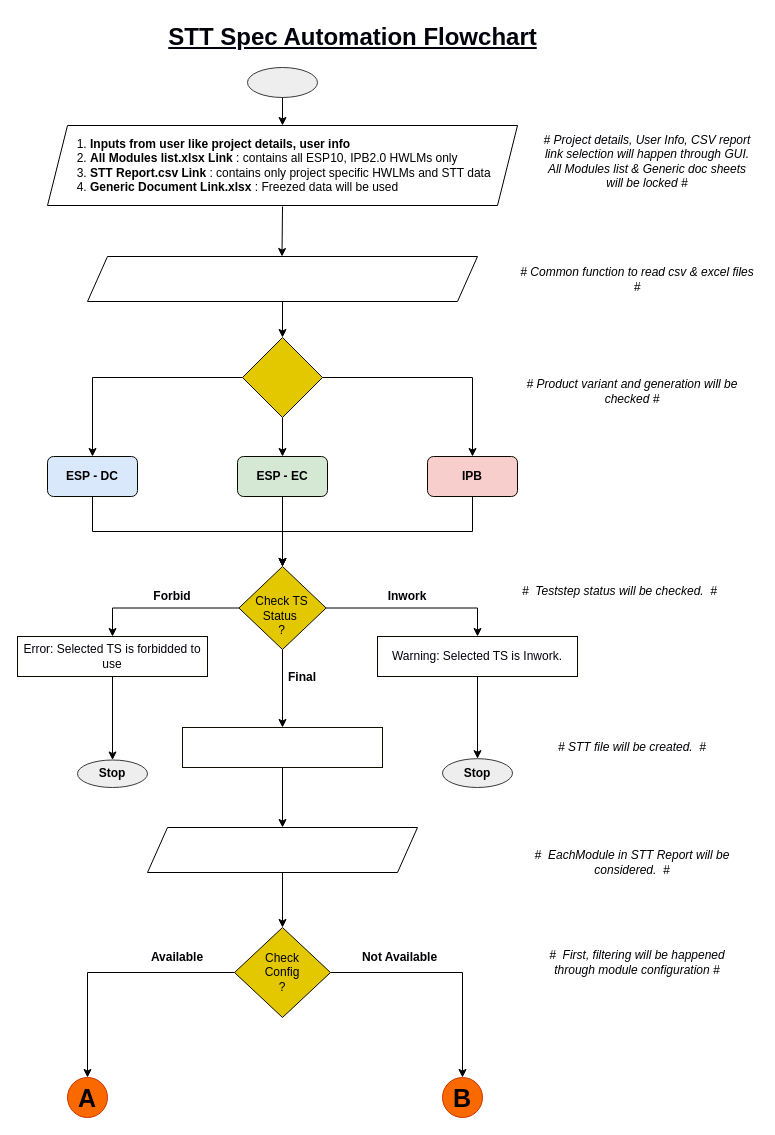
Some shapes in this 775 by 1135 pixel diagram are drawn without their labels. The centre of each missing label's shape, as x and y in pixels:
Check product ?: (282,377)
Create STT Specification.xlsx file: (282,747)
Each module will be added into loop: (282,849)
Read_csv() & Read_excel() to store them in dataframes: (282,279)
start: (282,82)
